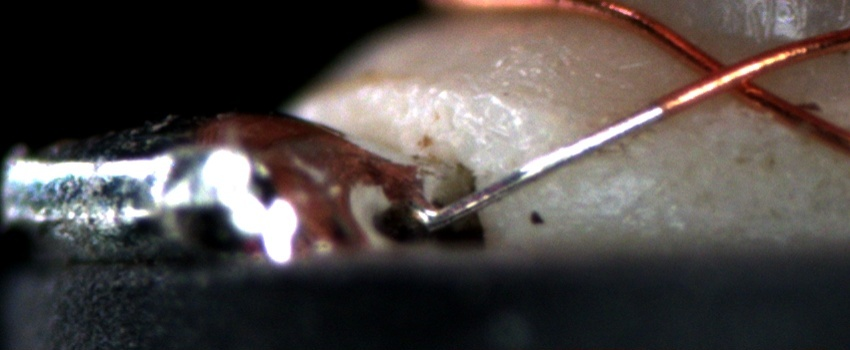CL: (675, 45, 778, 105)
TS: (425, 103, 665, 228)
